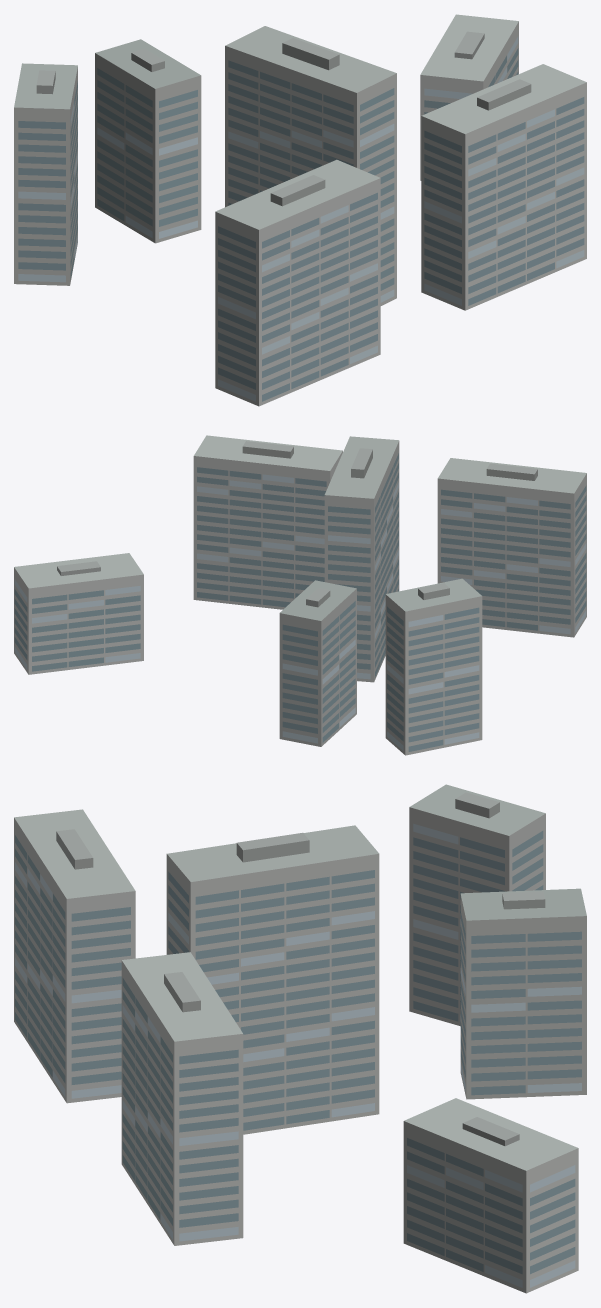
The model's file is apt-a15704002.glb.
3 views of the same model, one above another, from view 1: azimuth 30°, elevation 25°; view 2: azimuth 150°, elevation 25°; view 3: azimuth 270°, elevation 25° (orthographic). The views are drawn at different scales.
Parts seen in each view (by area): view 1: apt-a15704002; view 2: apt-a15704002; view 3: apt-a15704002.
Boxes of the visible parts, x1,y1,x2,y2 form: apt-a15704002: (14, 14, 586, 406); apt-a15704002: (14, 435, 586, 755); apt-a15704002: (14, 784, 586, 1293).
Bounding box in the file's own units: 122 × 51 × 97.08.
